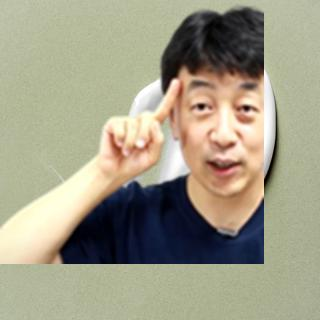IRRITATED: (96, 76, 183, 181)
